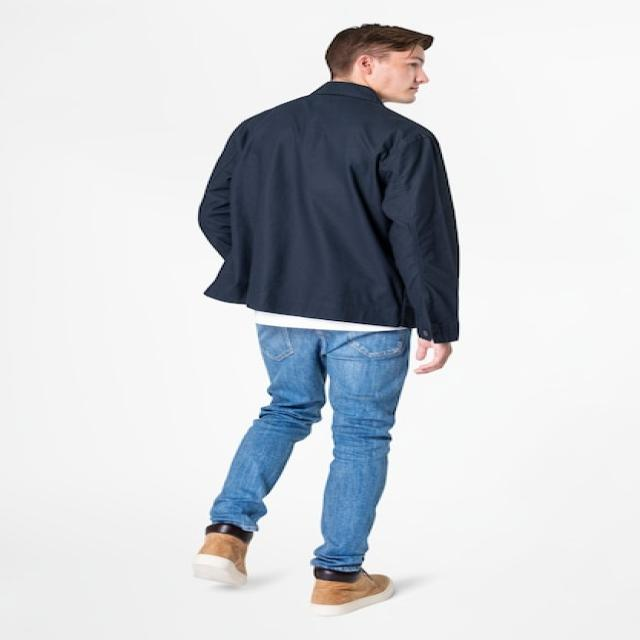Person: (200, 23, 458, 617)
